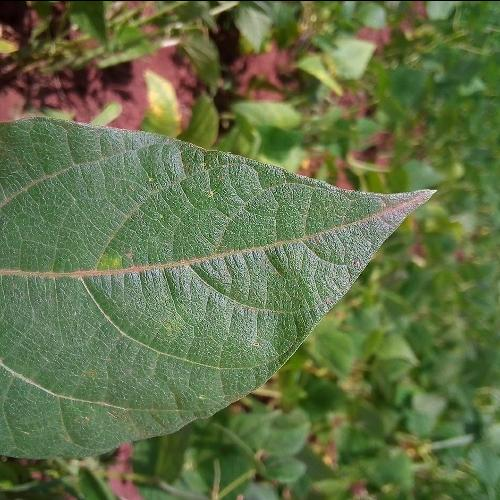sehat: (8, 166, 363, 410)
